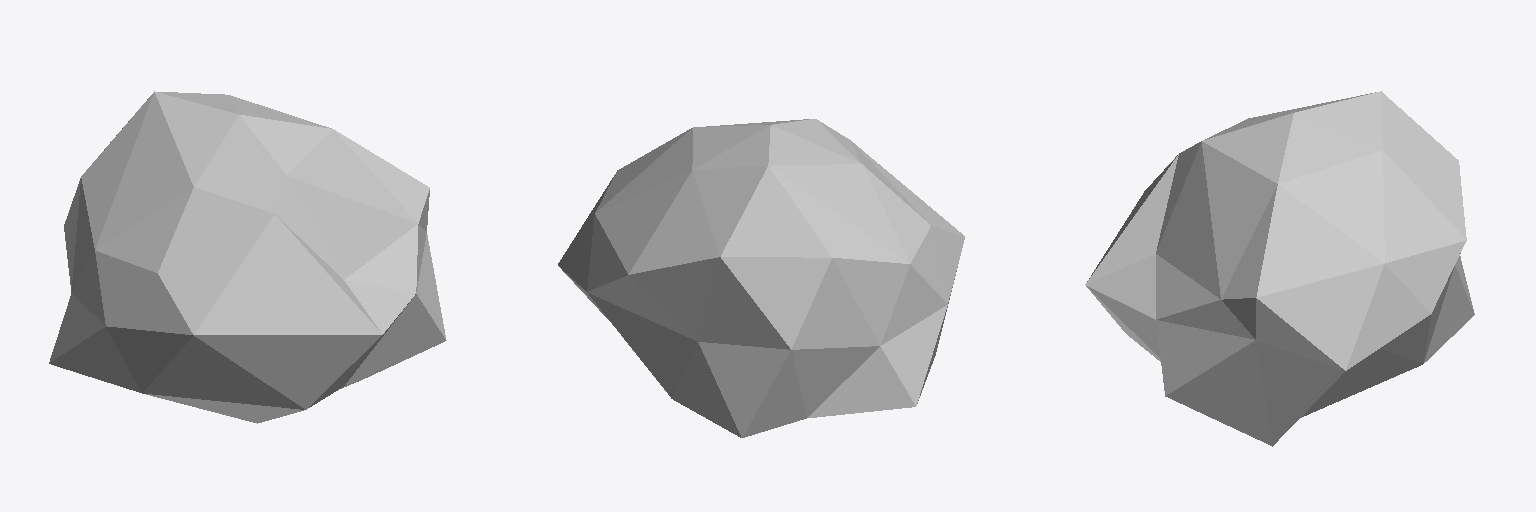
The model's file is asteroid_0.obj.
The picture shows the model from 3 angles: view 1: azimuth 30°, elevation 25°; view 2: azimuth 150°, elevation 25°; view 3: azimuth 270°, elevation 25°; orthographic projection.
Parts seen in each view (by area): view 1: asteroid_0; view 2: asteroid_0; view 3: asteroid_0.
Part boxes in pixels (x1,y1,x2,y2): asteroid_0: (49,91,446,423); asteroid_0: (558,119,964,437); asteroid_0: (1085,91,1474,446).
Size of the model in its own units: 2.77 by 2.09 by 2.63.